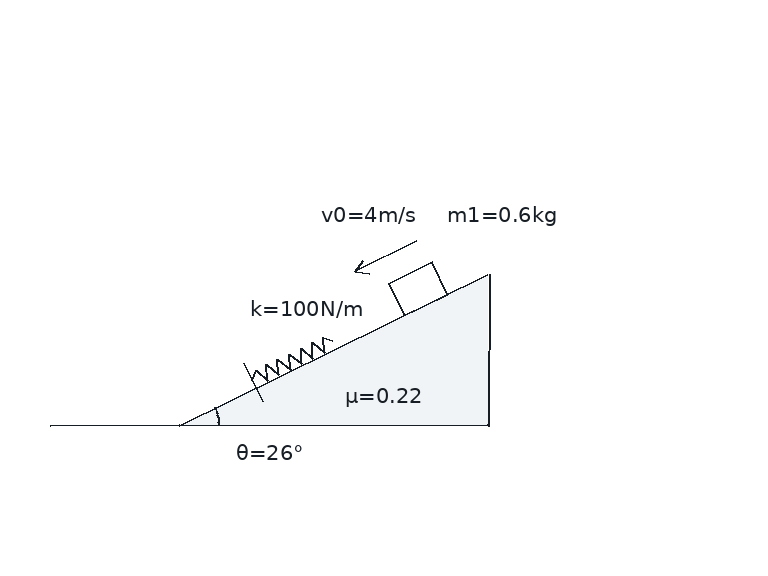block: (385, 260, 449, 318)
ramp: (177, 273, 489, 427)
spring: (250, 335, 334, 382)
